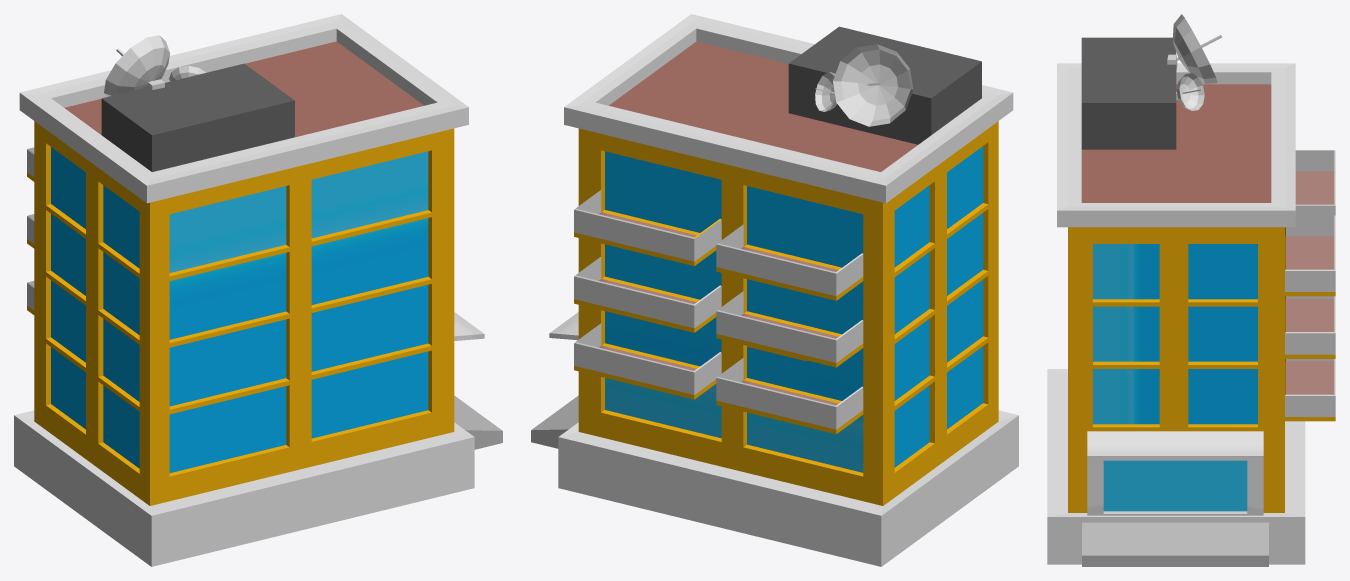
File: house_tall_b.fbx
The picture shows the model from 3 angles, left to right: view 1: azimuth 30°, elevation 25°; view 2: azimuth 150°, elevation 25°; view 3: azimuth 270°, elevation 25°; orthographic projection. The views are drawn at different scales.
Visible parts, largest first — view 1: House_3; view 2: House_3; view 3: House_3.
Part boxes in pixels (left/top/right/bottom): House_3: left=14, top=14, right=502, bottom=566; House_3: left=531, top=14, right=1018, bottom=566; House_3: left=1047, top=14, right=1335, bottom=566.
Size of the model in its own units: 709 by 841 by 510.
1 material, 1 textured.
